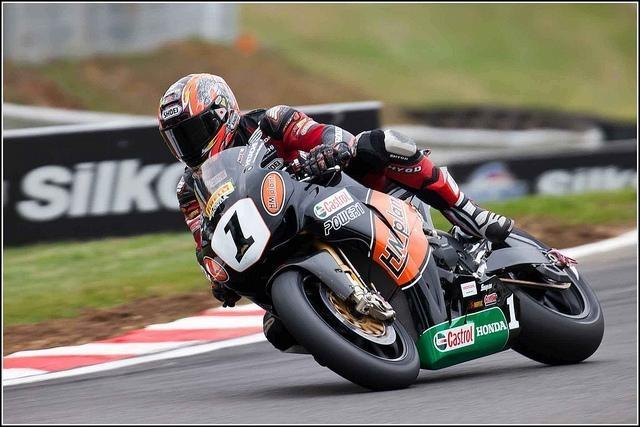motorcycle: (189, 144, 611, 392)
